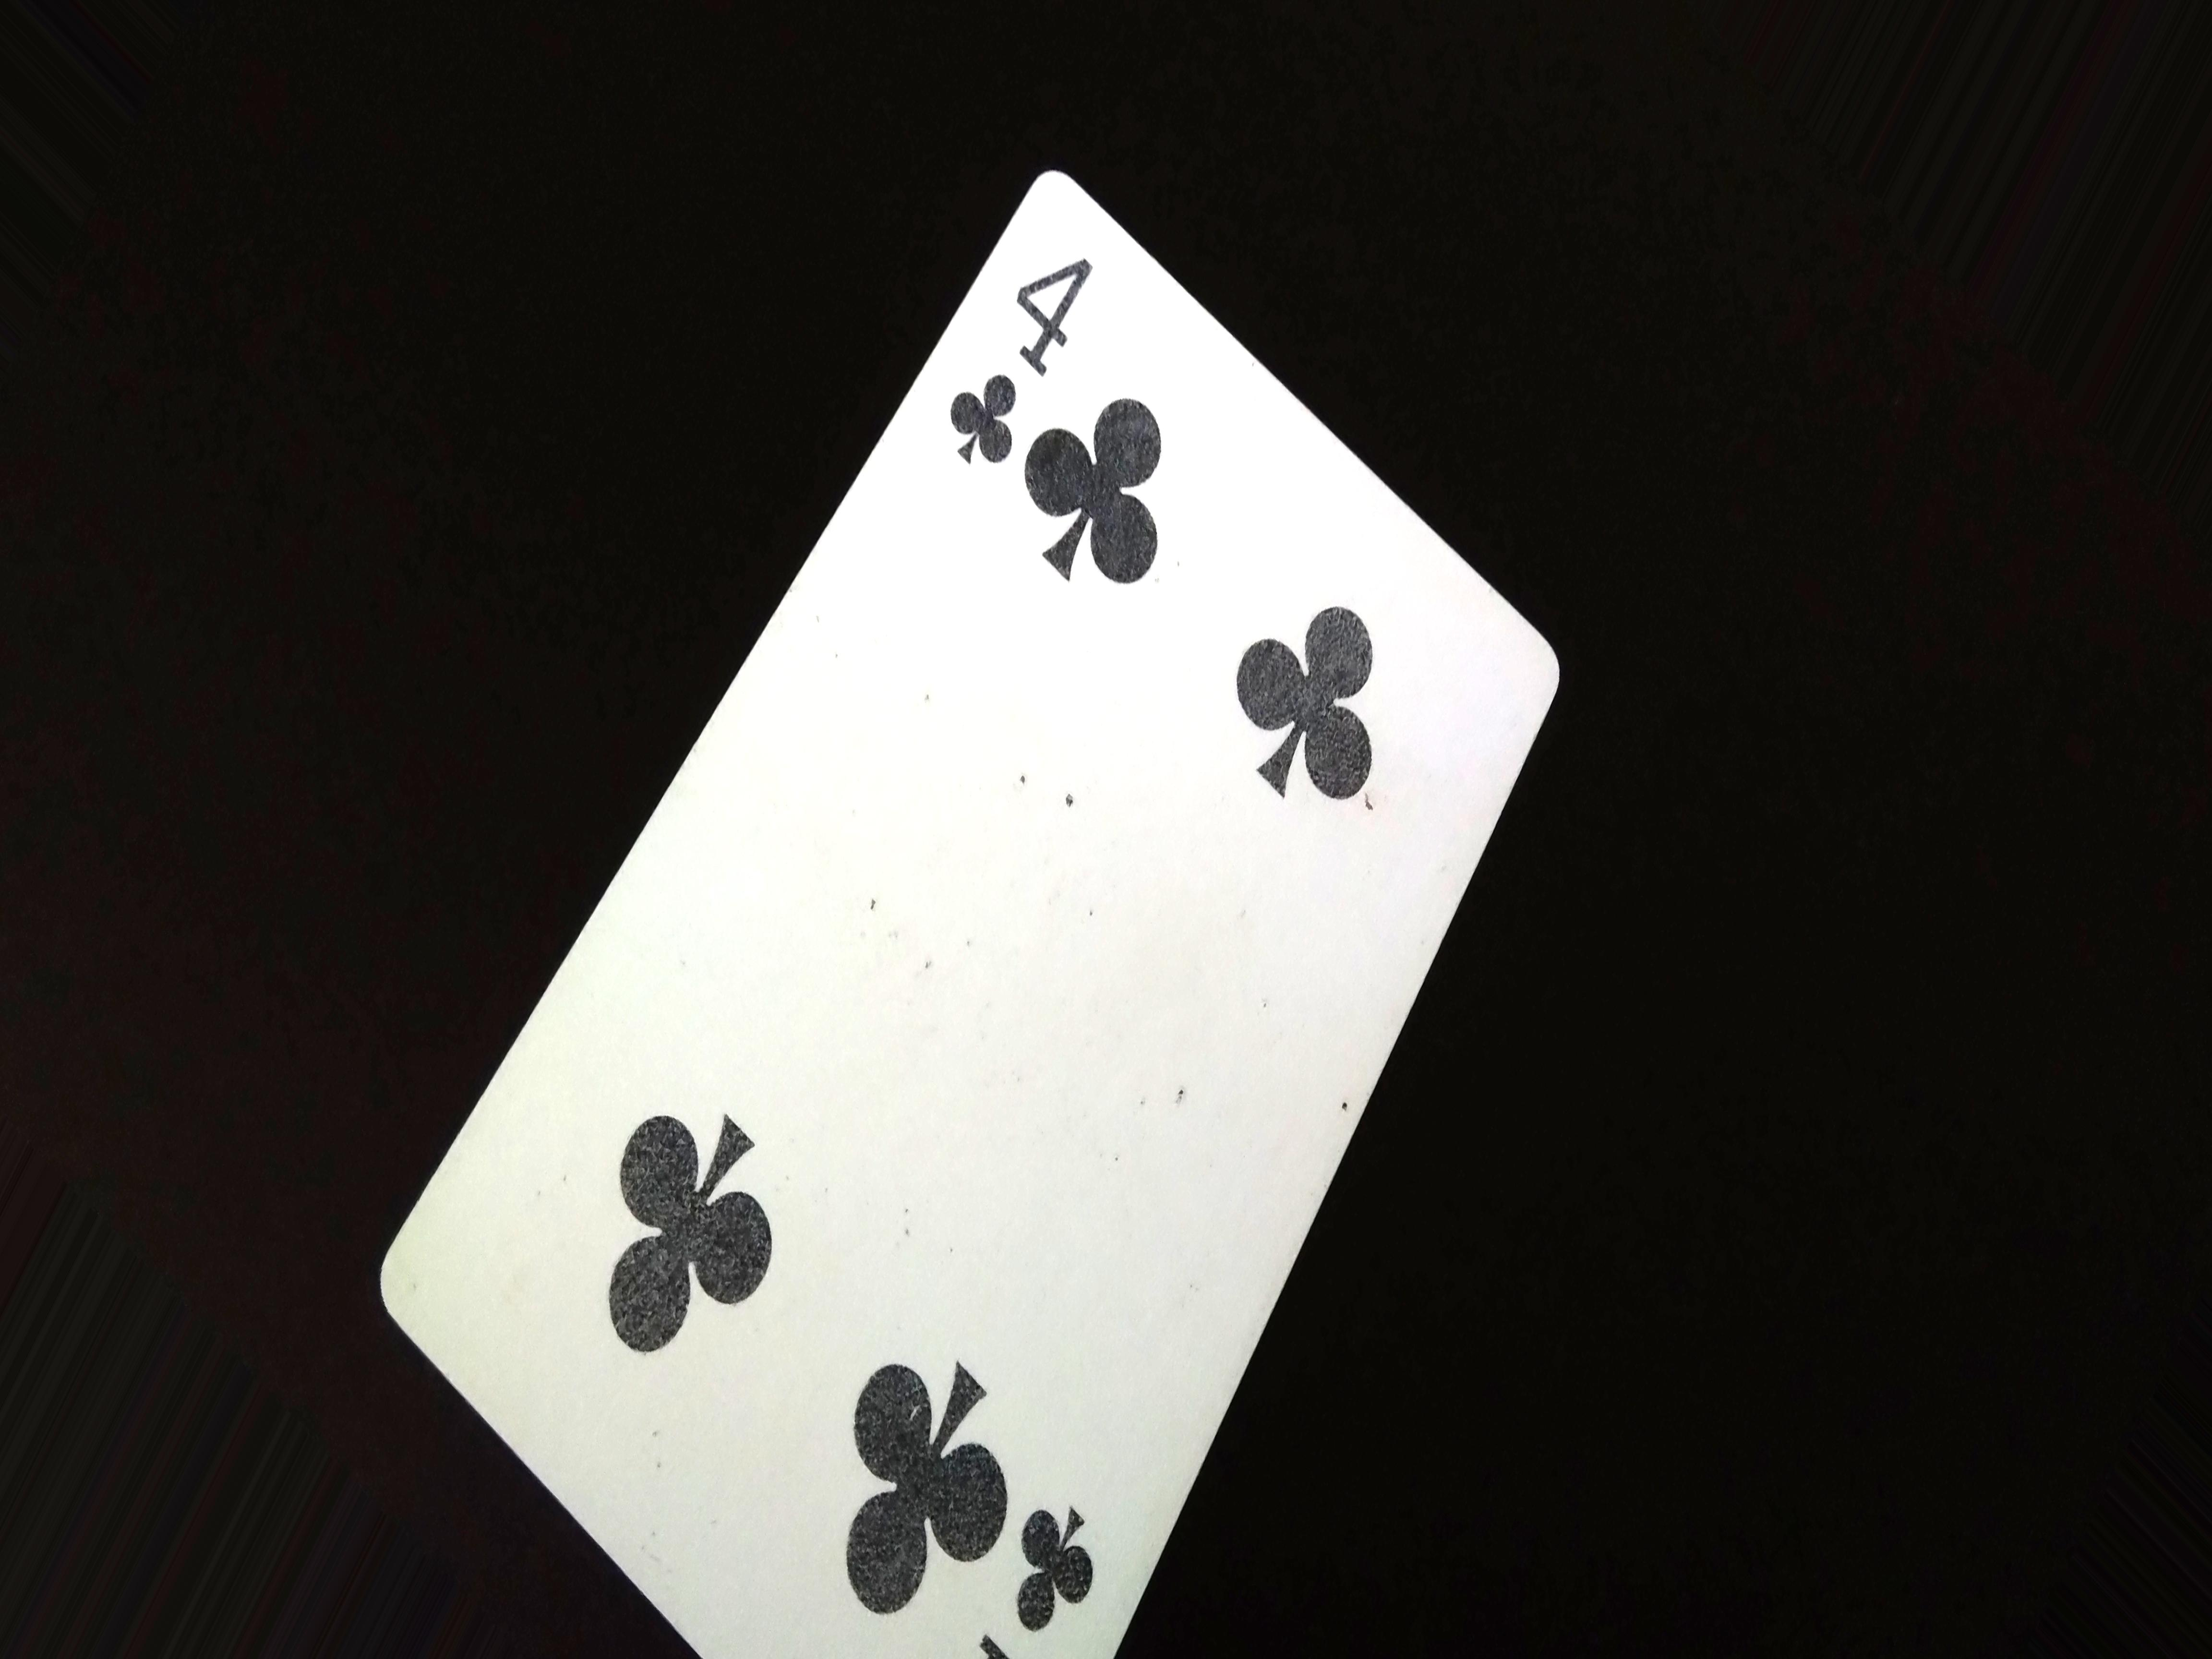4C: (944, 209, 1099, 481)
